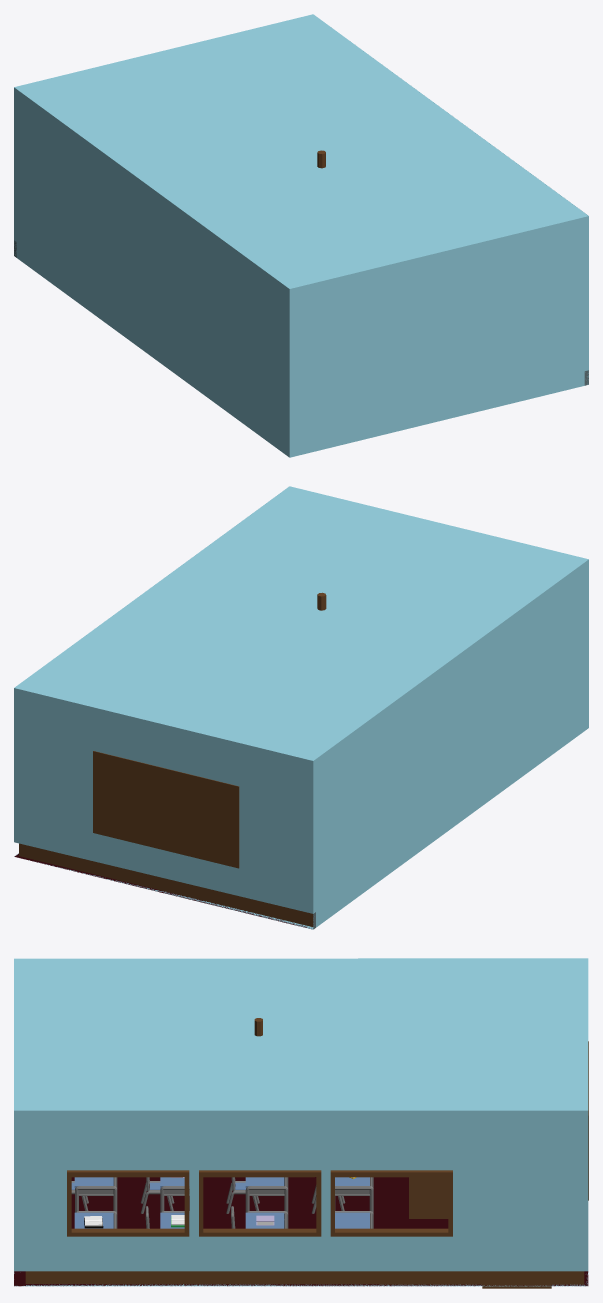
Rendered from Aula.glb.
3 renders of one model, top to bottom at view 1: azimuth 30°, elevation 25°; view 2: azimuth 150°, elevation 25°; view 3: azimuth 270°, elevation 25°, orthographic. The views are drawn at different scales.
Visible parts, largest first — view 1: Salon; view 2: Salon, Pizarron; view 3: Salon, Mesa Profesor, Cubo.009, Mesa.004, Mesa.010, Mesa.001, Mesa, Mesa.003, Mesa.009, Mesa.007.
Part boxes in pixels (x1,y1,x2,y2): Salon: (14,14,588,457); Salon: (14,486,588,929); Pizarron: (93,751,239,868); Salon: (14,958,588,1286); Mesa Profesor: (409,1177,448,1218); Cubo.009: (482,1271,551,1288); Mesa.004: (245,1177,288,1213); Mesa.010: (74,1177,117,1212); Mesa.001: (335,1177,373,1212); Mesa: (335,1211,373,1228); Mesa.003: (245,1211,288,1228); Mesa.009: (74,1211,117,1228); Mesa.007: (160,1171,189,1212).
Bounding box in the file's own units: 10.67 × 6.25 × 16.83.
Materials: 13 (13 with a texture image).
